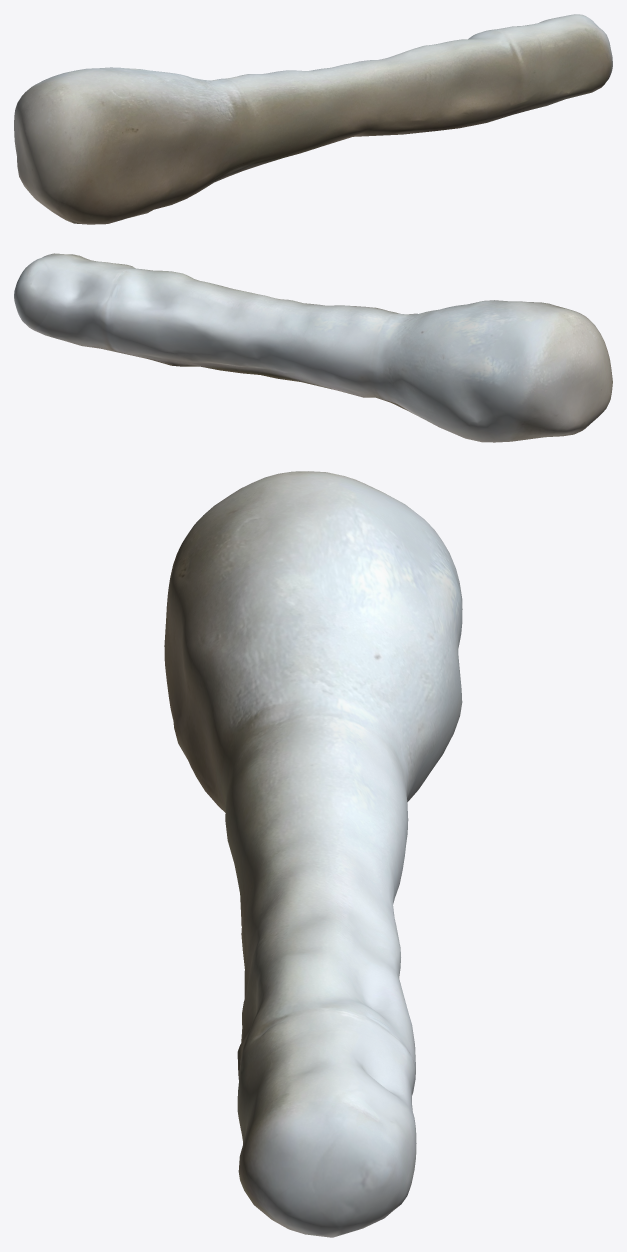
The model's file is chu.obj.
The picture shows the model from 3 angles, top to bottom: view 1: azimuth 30°, elevation 25°; view 2: azimuth 150°, elevation 25°; view 3: azimuth 270°, elevation 25°; orthographic projection. The views are drawn at different scales.
Visible parts, largest first — view 1: mesh_0; view 2: mesh_0; view 3: mesh_0.
Boxes of the visible parts, x1,y1,x2,y2 form: mesh_0: (14,14,612,224); mesh_0: (14,253,612,442); mesh_0: (164,471,462,1237).
Size of the model in its own units: 0.1721 by 0.0391 by 0.0391.
1 material, 1 textured.
